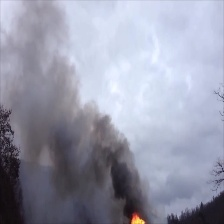fire: (127, 212, 147, 223)
